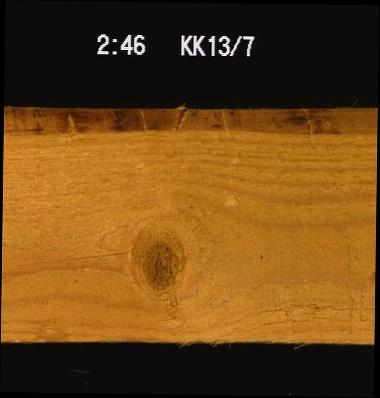sound_knot: (132, 223, 184, 299)
split: (1, 248, 134, 268)
wave: (3, 108, 376, 136)
